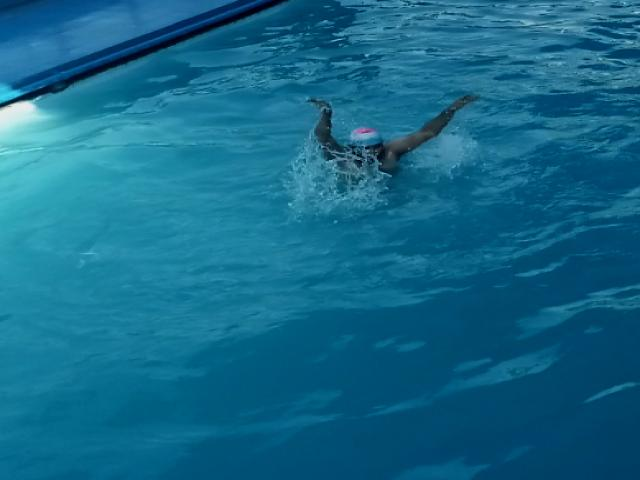drowning: (303, 88, 477, 192)
